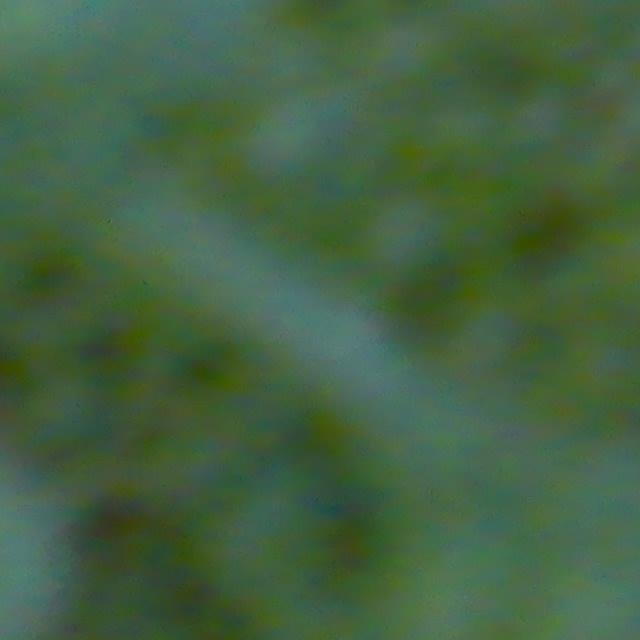SeaGrape: (353, 187, 458, 288)
